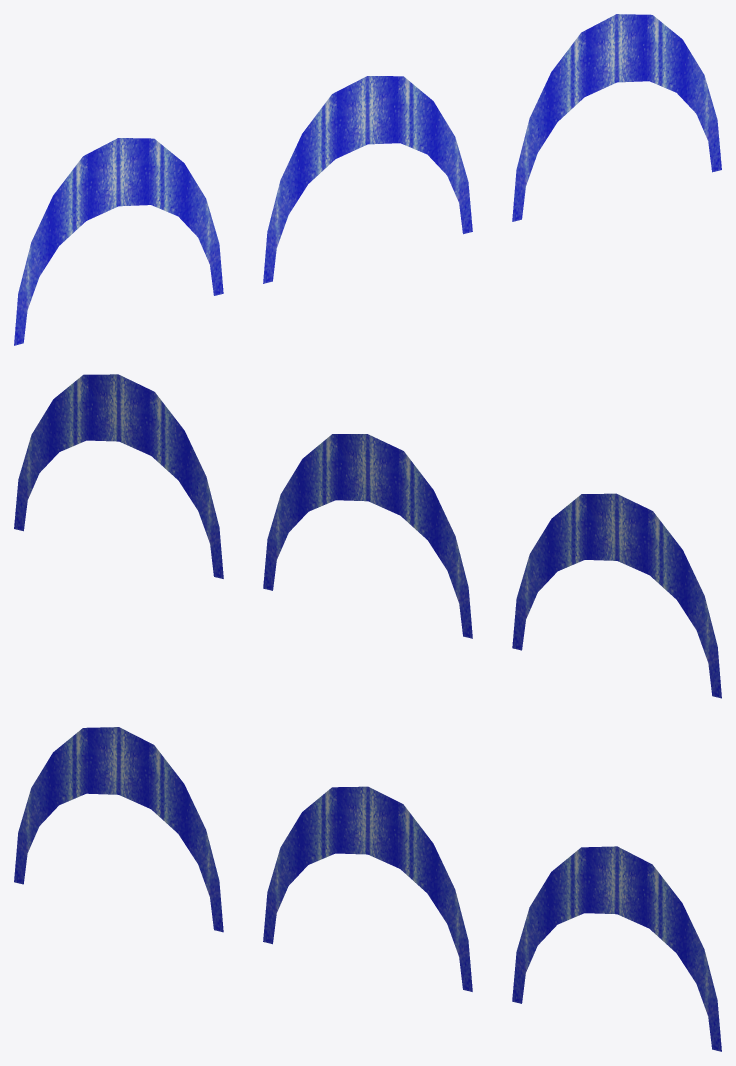
3 renders of one model, top to bottom at view 1: azimuth 30°, elevation 25°; view 2: azimuth 150°, elevation 25°; view 3: azimuth 330°, elevation 25°, orthographic.
Size of the model in its own units: 0.9605 by 0.2345 by 0.00758.
1 material, 1 textured.
